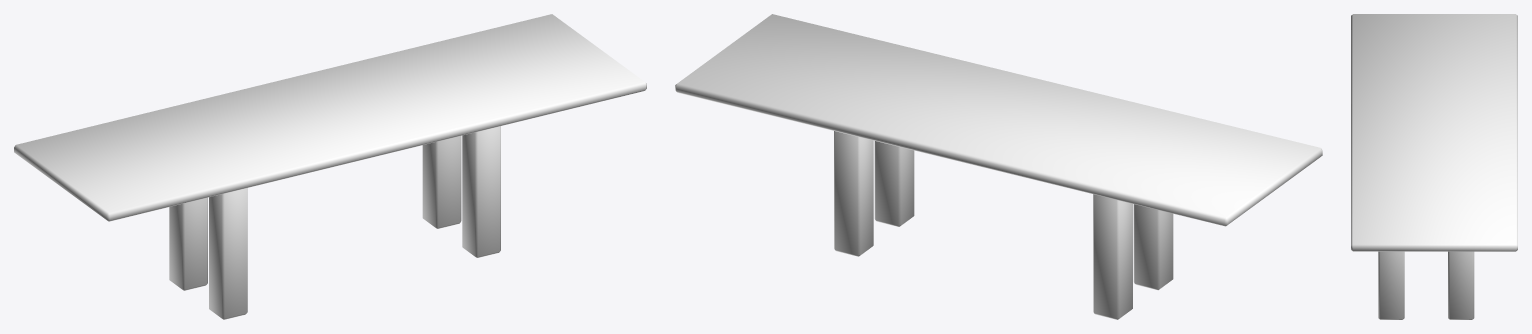
Rendered from table_table.fbx.
3 renders of one model, left to right at view 1: azimuth 30°, elevation 25°; view 2: azimuth 150°, elevation 25°; view 3: azimuth 270°, elevation 25°, orthographic. The views are drawn at different scales.
Visible parts, largest first — view 1: Cube.005; view 2: Cube.005; view 3: Cube.005.
Boxes of the visible parts, bbox=[...] form: Cube.005: bbox=[14, 14, 646, 319]; Cube.005: bbox=[675, 14, 1322, 319]; Cube.005: bbox=[1351, 14, 1517, 319].
Bounding box in the file's own units: 392 × 104 × 120.
